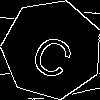C: (27, 24, 82, 82)
